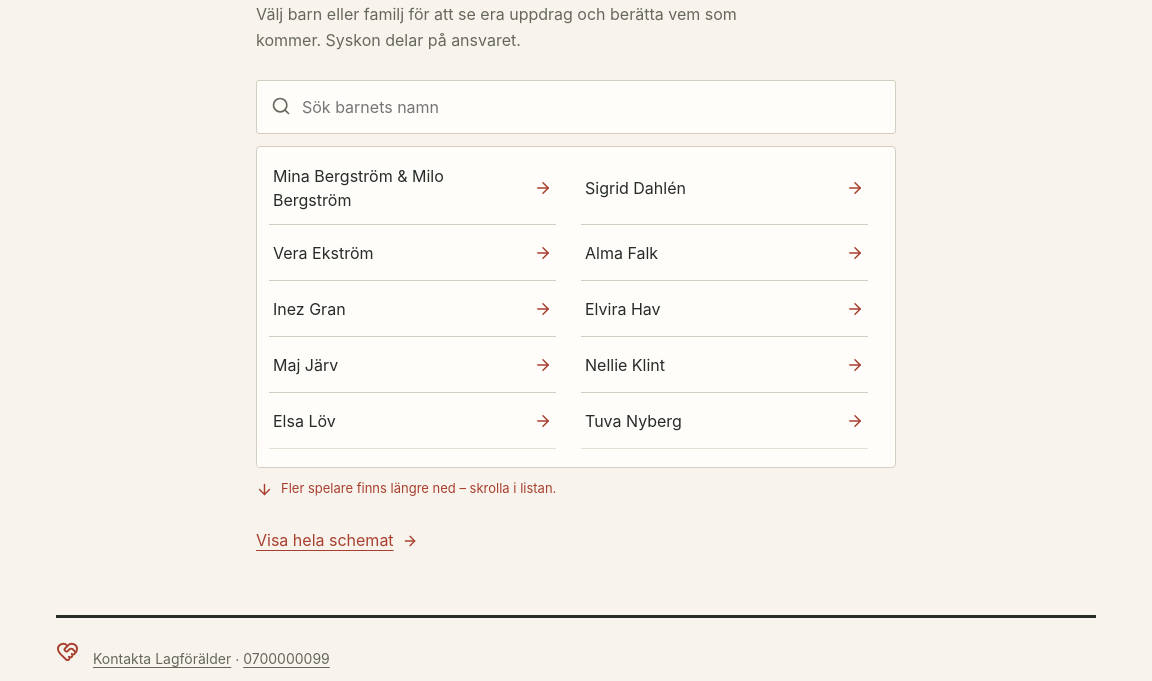
Test: refreshes membership when reopened and includes administrators without a parent record
(page scrolled)
What coordinates should you click on to do the following:
click the button "Kontakta Lagförälder"
I would click on:
 (162, 659)
Its box is [93,637,231,680].
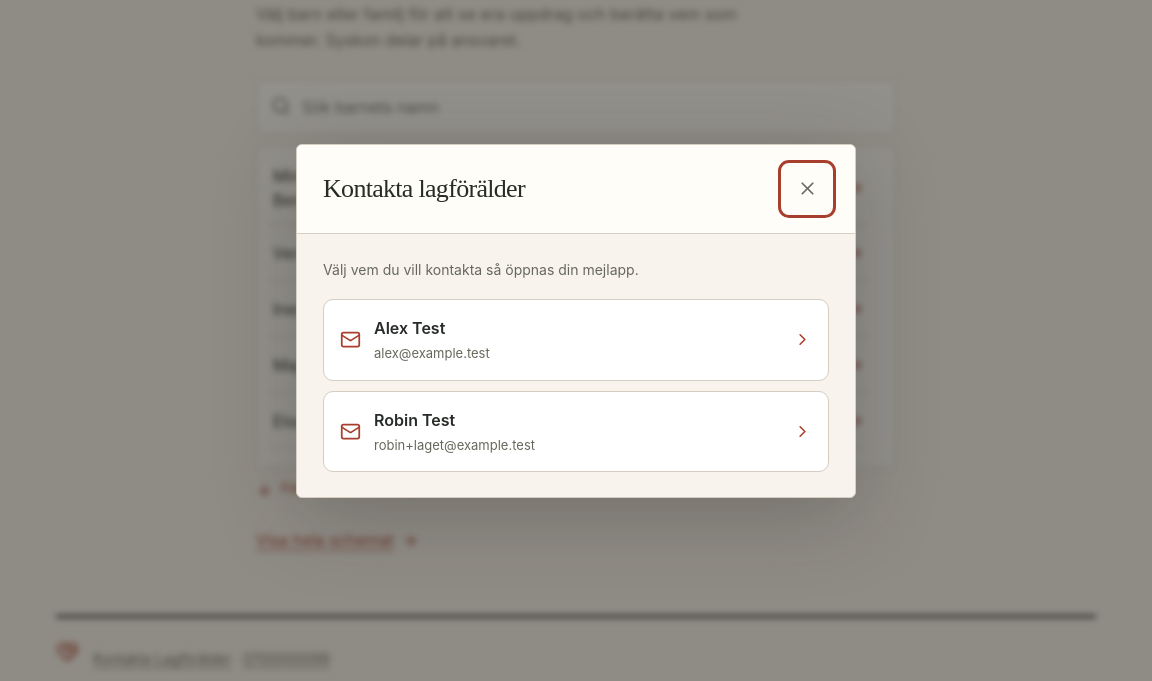
Result: the text "Alex Test" is shown at [374,318,445,338]
What coordinates should you click on to do the following:
click the button named "Stäng"
I would click on:
 (807, 189)
Its box is [785,167,829,211].
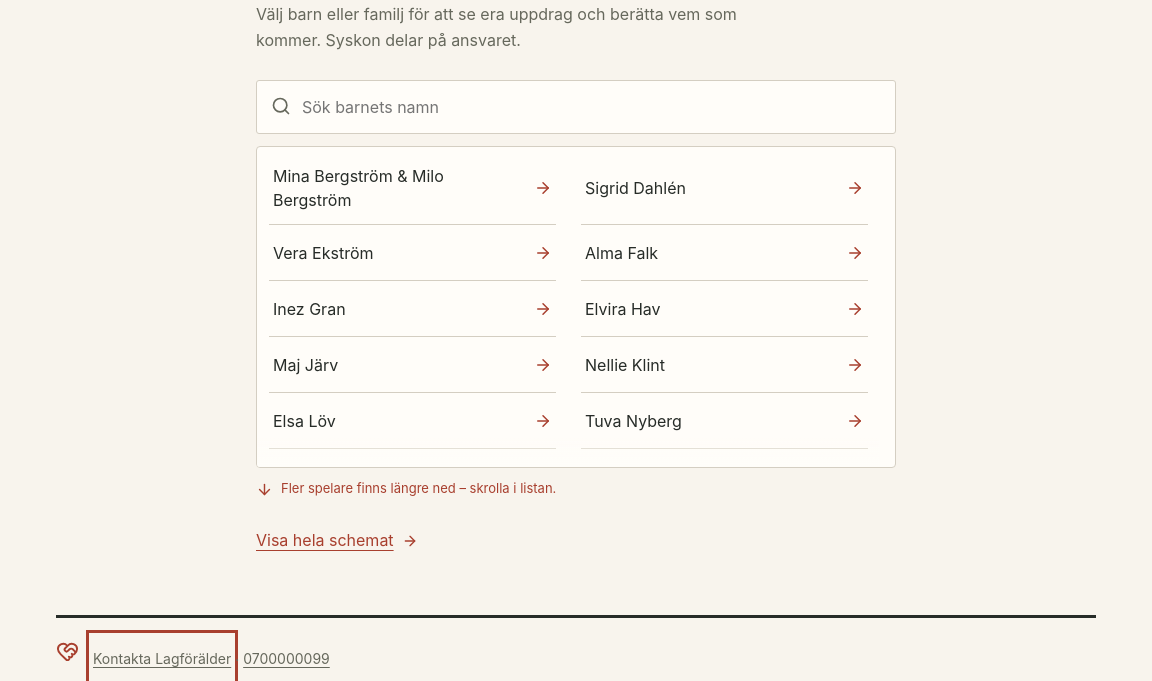
What coordinates should you click on to do the following:
click the button "Kontakta Lagförälder"
I would click on:
 (162, 659)
Its box is [93,637,231,680].
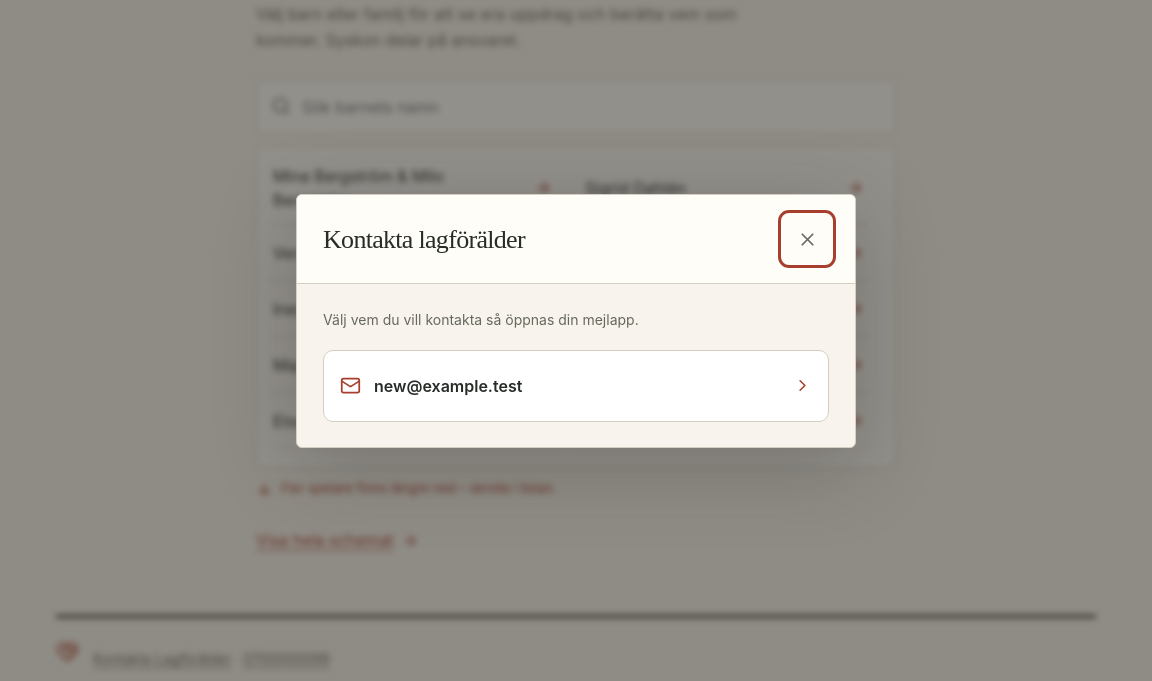
Expected: the link "Alex Test" is not shown
Result: the link "new@example.test" is shown at [323,350,829,422]
